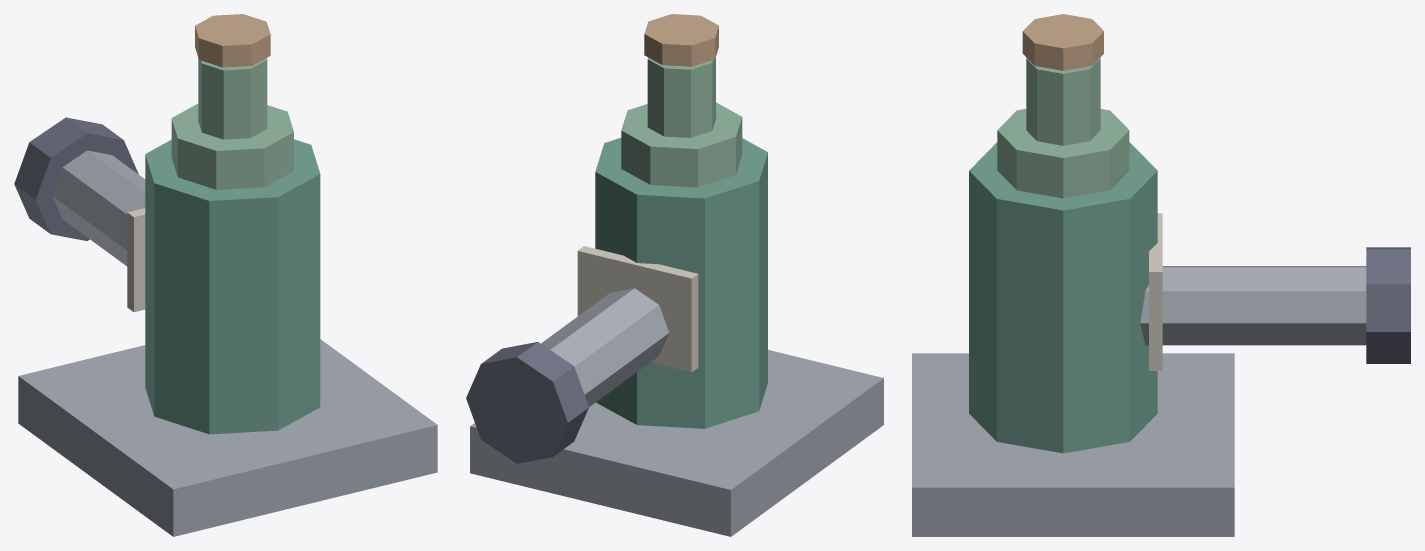
File: obstacle_alcohol_turret.glb
3 views of the same model, side by side, from view 1: azimuth 30°, elevation 25°; view 2: azimuth 150°, elevation 25°; view 3: azimuth 270°, elevation 25° (orthographic). The views are drawn at different scales.
Visible parts, largest first — view 1: 001_bottle_glass, 000_hover_base, 002_bottle_shoulder, 006_barrel, 007_barrel_tip, 003_bottle_neck, 004_bottle_cork, 005_bottle_label; view 2: 000_hover_base, 001_bottle_glass, 007_barrel_tip, 006_barrel, 005_bottle_label, 002_bottle_shoulder, 003_bottle_neck, 004_bottle_cork; view 3: 001_bottle_glass, 000_hover_base, 006_barrel, 002_bottle_shoulder, 003_bottle_neck, 007_barrel_tip, 004_bottle_cork, 005_bottle_label.
Part boxes in pixels (x1,y1,x2,y2): 001_bottle_glass: [145, 139, 320, 434]; 000_hover_base: [18, 339, 437, 536]; 002_bottle_shoulder: [171, 103, 293, 189]; 006_barrel: [52, 150, 145, 266]; 007_barrel_tip: [14, 117, 138, 240]; 003_bottle_neck: [198, 58, 267, 139]; 004_bottle_cork: [195, 14, 270, 67]; 005_bottle_label: [127, 208, 145, 312]; 000_hover_base: [470, 350, 883, 536]; 001_bottle_glass: [595, 138, 767, 428]; 007_barrel_tip: [466, 342, 588, 463]; 006_barrel: [541, 288, 668, 406]; 005_bottle_label: [577, 246, 698, 372]; 002_bottle_shoulder: [621, 102, 742, 187]; 003_bottle_neck: [647, 57, 715, 137]; 004_bottle_cork: [644, 14, 718, 66]; 001_bottle_glass: [969, 142, 1157, 453]; 000_hover_base: [912, 353, 1234, 536]; 006_barrel: [1140, 266, 1366, 345]; 002_bottle_shoulder: [997, 109, 1129, 198]; 003_bottle_neck: [1026, 58, 1100, 145]; 007_barrel_tip: [1366, 247, 1410, 363]; 004_bottle_cork: [1022, 14, 1103, 70]; 005_bottle_label: [1149, 213, 1162, 370].
Bounding box in the file's own units: 0.64 × 0.975 × 1.
